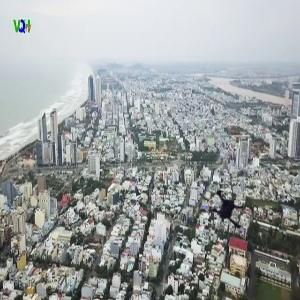drone: (192, 181, 253, 242)
